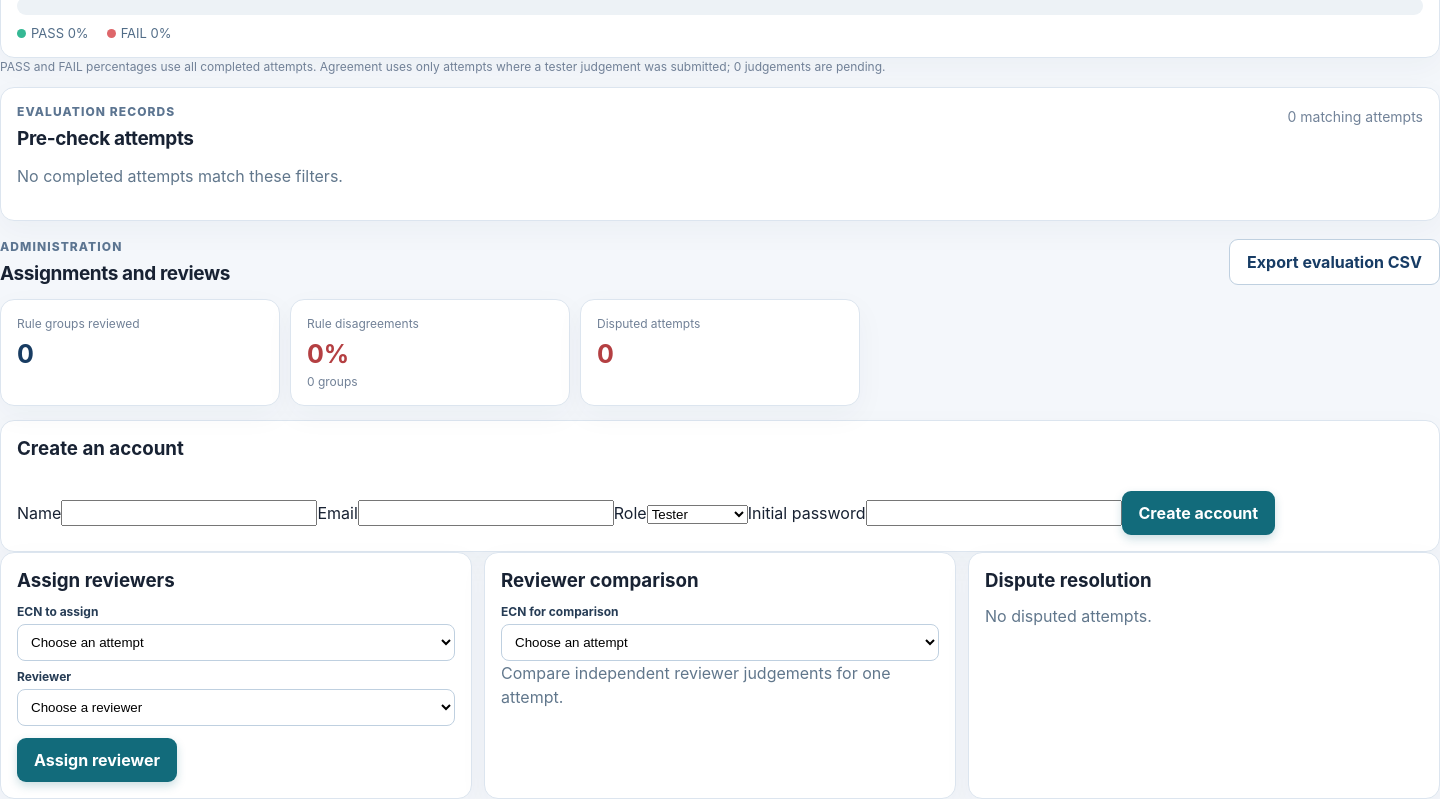
Test: administrator account management › creates a user with a selected role and reports success without rendering the password
The image size is (1440, 799).
(page scrolled)
Type "New Tester" into the field labelled "Name" at [189, 513], box [61, 500, 317, 526]
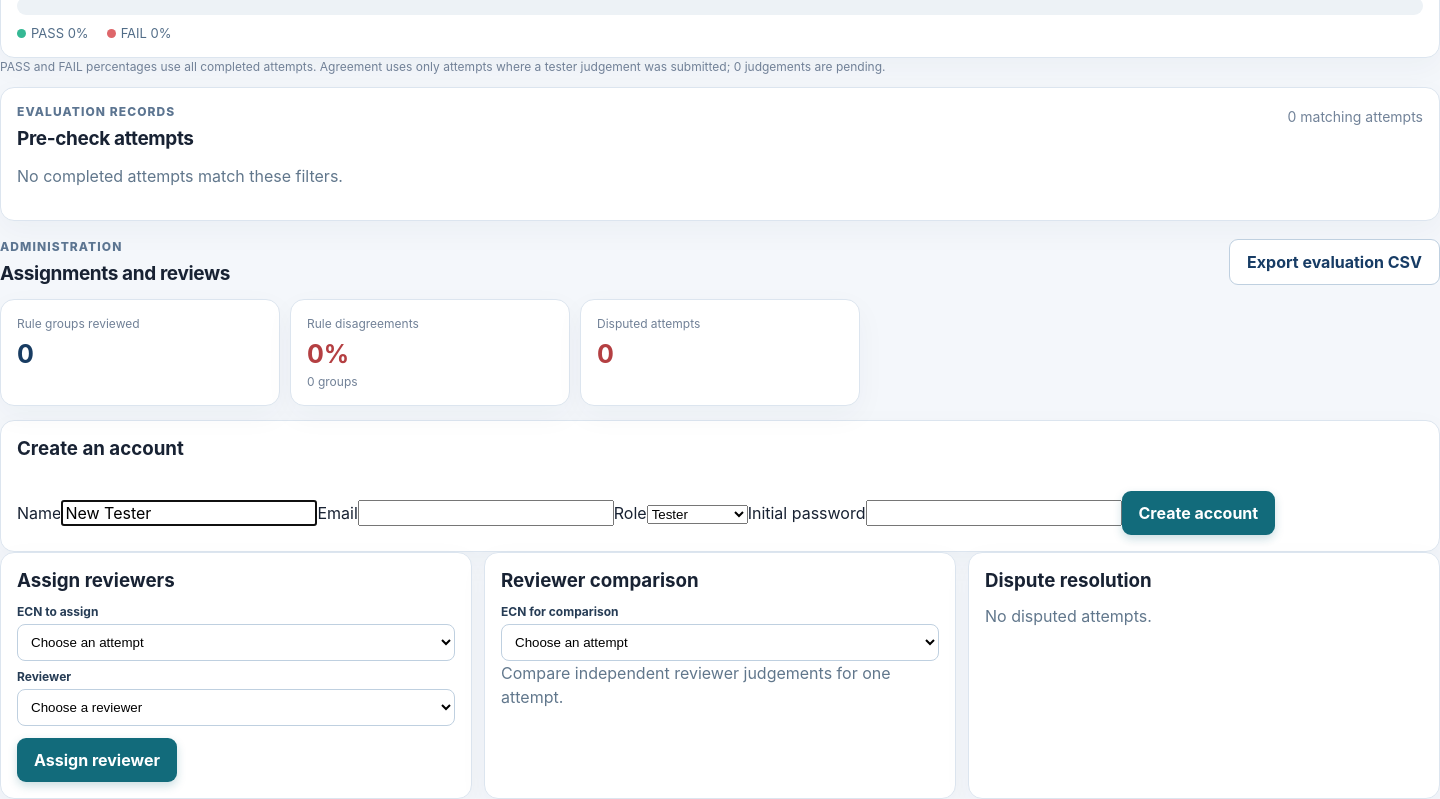
Type "new.tester@example.com" into the field labelled "Email" at [486, 513], box [358, 500, 614, 526]
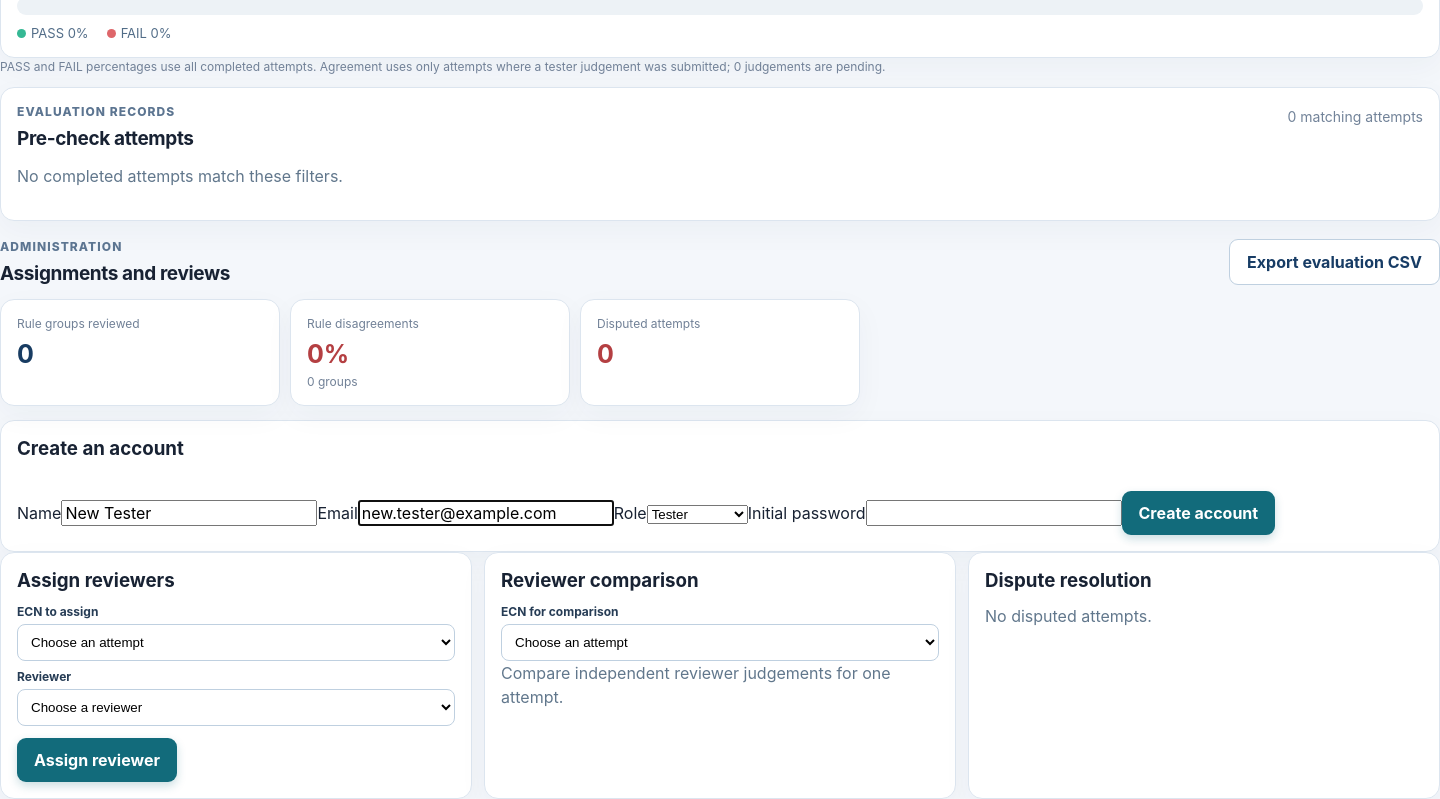
Select "Tester" in the dropdown labelled "Role" at [697, 515], box [647, 505, 748, 524]
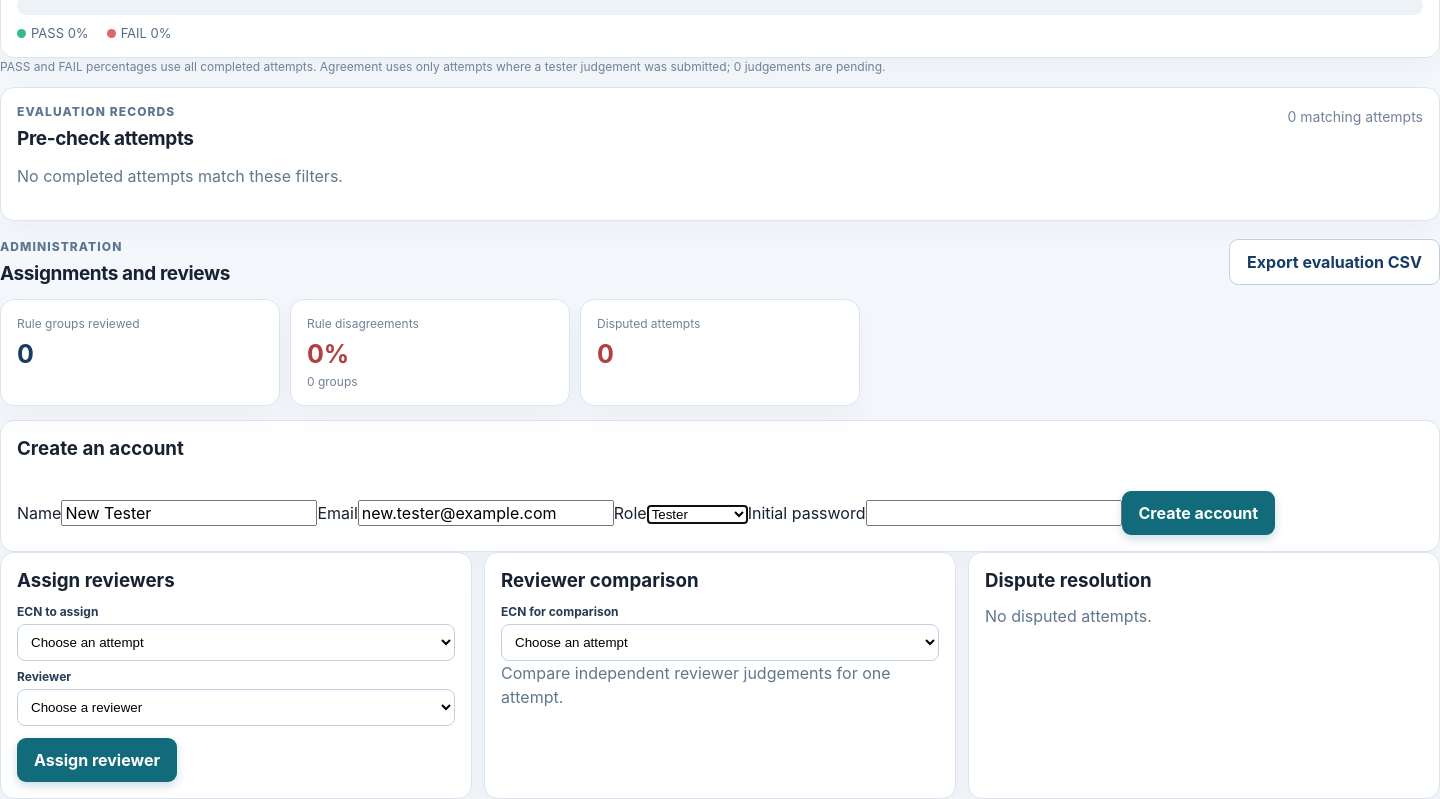
Type "secret-for-new-user" into the password field labelled "Initial password" at [994, 513], box [866, 500, 1122, 526]
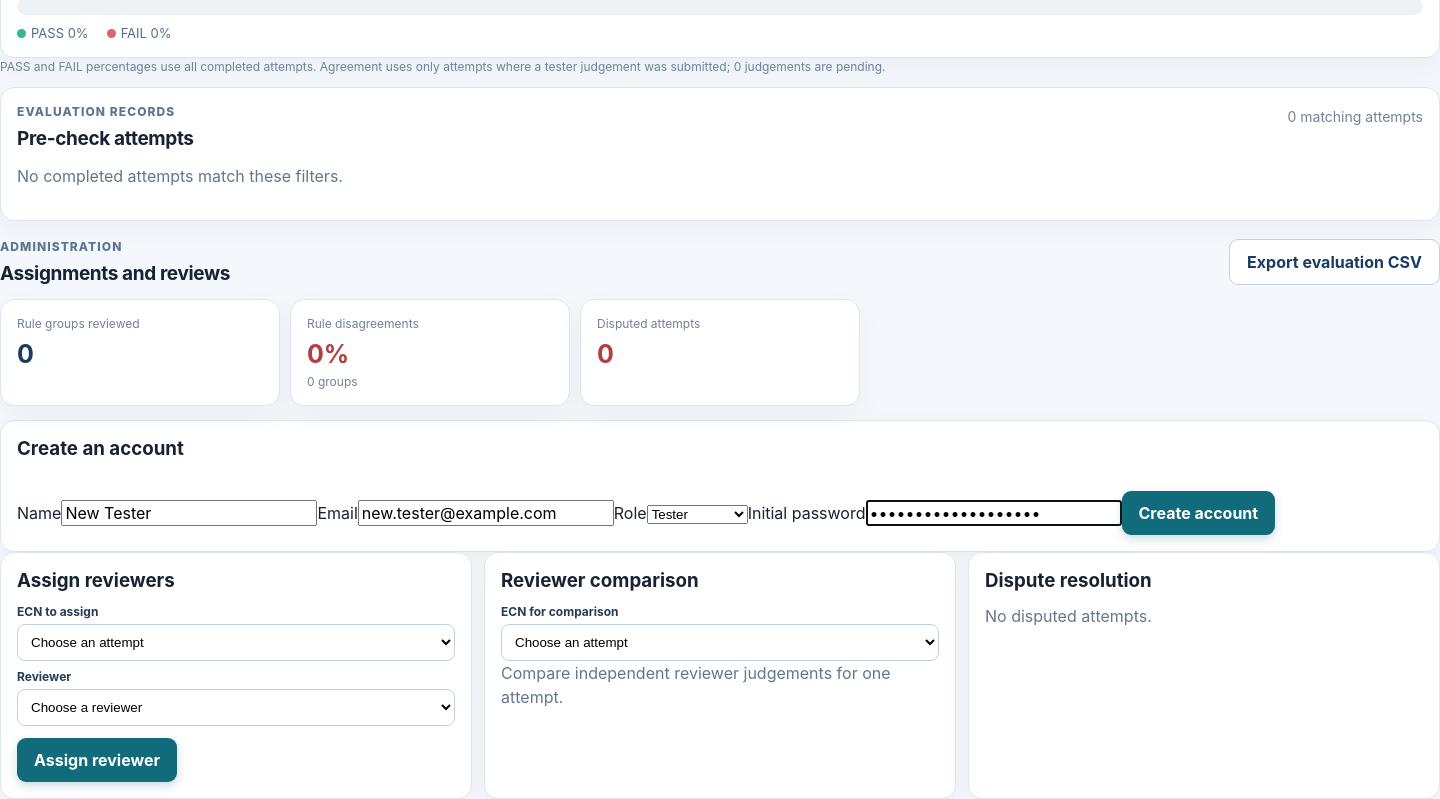
Click the button "Create account" at [1198, 513], box [1122, 491, 1275, 535]
(page scrolled)
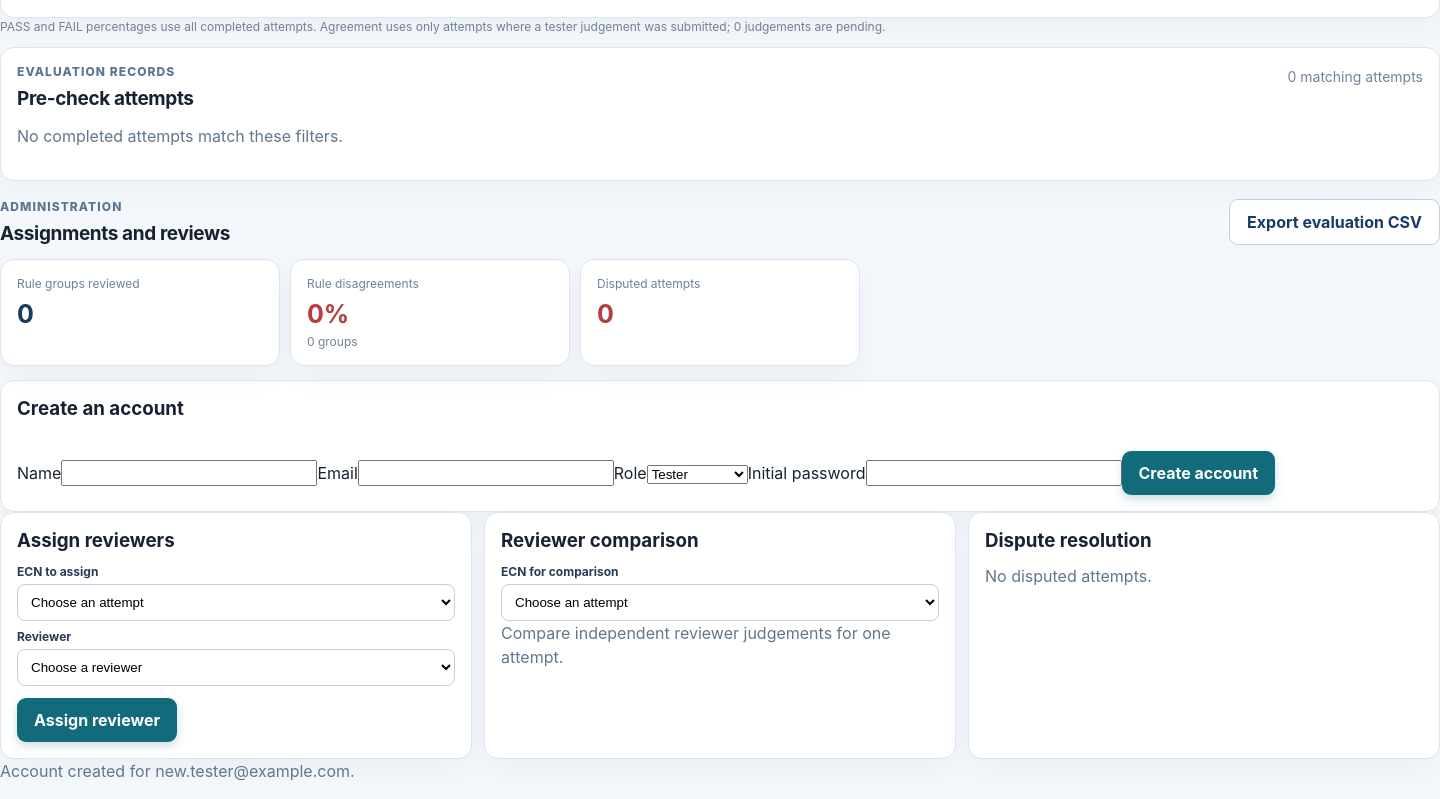
Result: the message reads "Account created for new.tester@example.com." at [0, 761, 355, 781]
